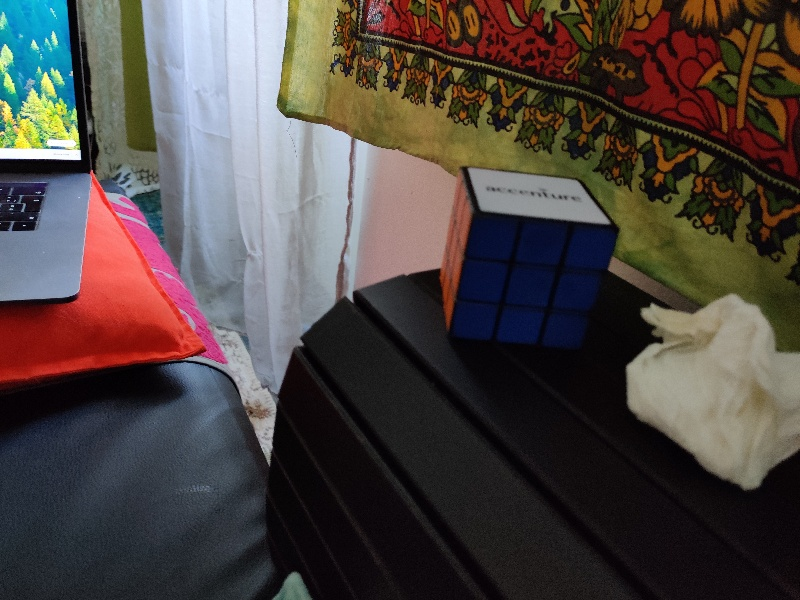rubik: (439, 167, 619, 348)
